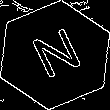N_SE: (24, 24, 86, 86)
